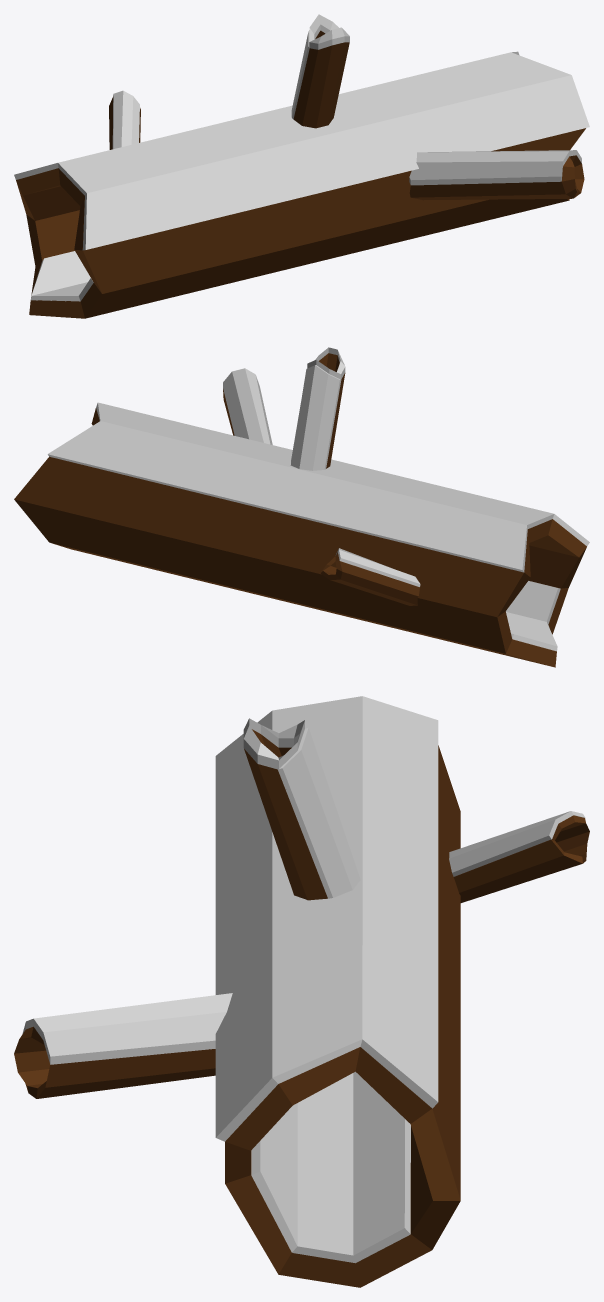
The model's file is Tree_17.fbx.
3 views of the same model, one above another, from view 1: azimuth 30°, elevation 25°; view 2: azimuth 150°, elevation 25°; view 3: azimuth 270°, elevation 25° (orthographic). The views are drawn at different scales.
Visible parts, largest first — view 1: Tree_17; view 2: Tree_17; view 3: Tree_17.
Part boxes in pixels (left/top/right/bottom): Tree_17: left=14, top=14, right=589, bottom=318; Tree_17: left=14, top=347, right=589, bottom=667; Tree_17: left=14, top=696, right=589, bottom=1287.
Bounding box in the file's own units: 280 × 122 × 166.
